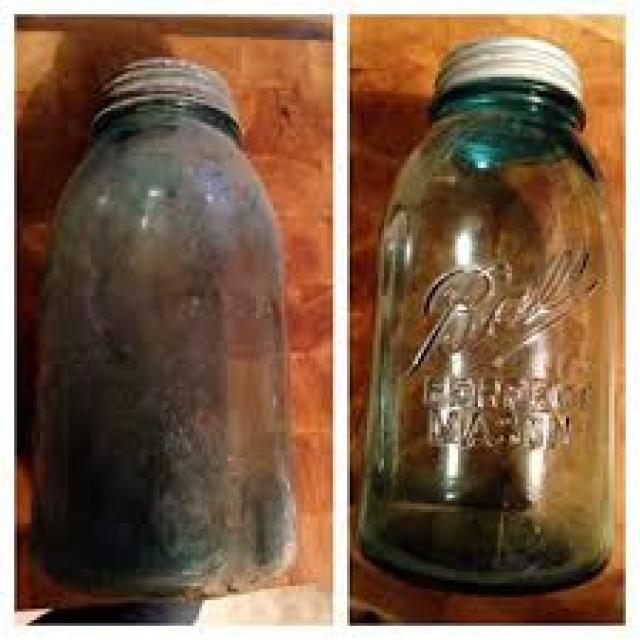glass: (31, 102, 299, 589), (356, 94, 612, 589)
metal: (435, 34, 580, 117), (82, 54, 239, 128)
